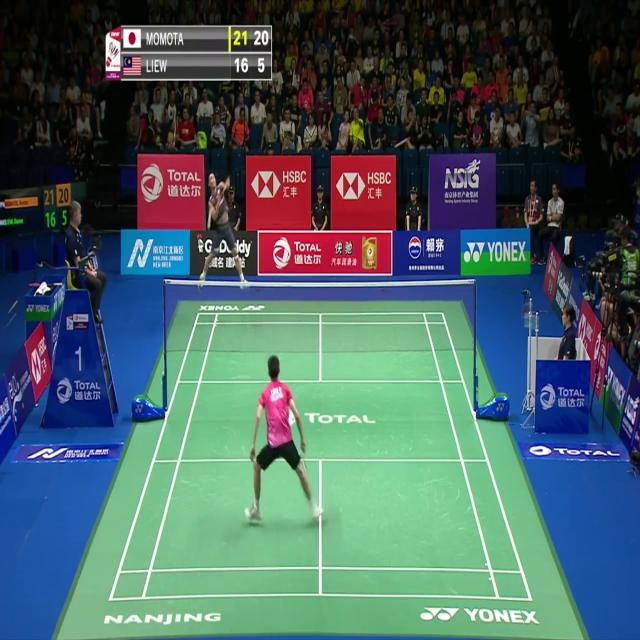Shuttlecock: (206, 214, 212, 225)
